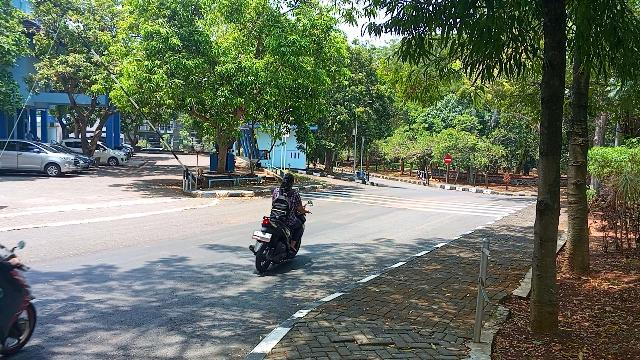motor: (250, 217, 306, 273)
non-helm: (284, 175, 296, 189)
